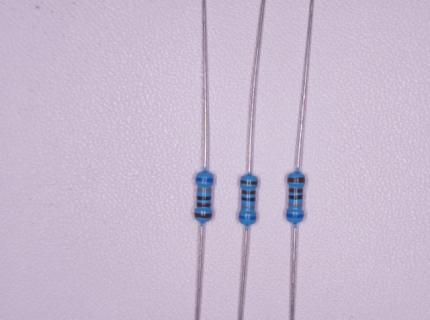Black band: (241, 197, 255, 202), (289, 195, 303, 199), (197, 196, 211, 200)
Blue band: (196, 177, 213, 182), (287, 214, 303, 218), (240, 216, 255, 220)
Brown band: (288, 177, 305, 183), (241, 179, 257, 185), (195, 213, 212, 218), (196, 203, 210, 207), (289, 189, 302, 193), (242, 191, 255, 194)
Grey band: (289, 203, 302, 207), (198, 188, 211, 192), (242, 205, 254, 209)
